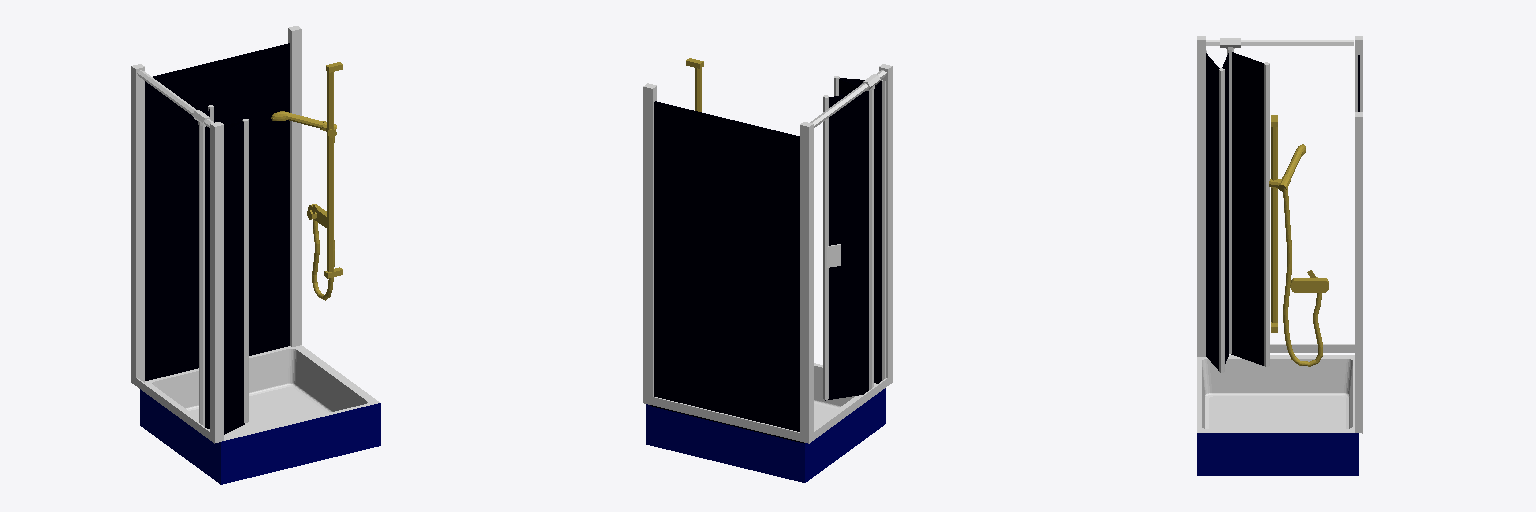
Rendered from 3dm-shower.obj.
The picture shows the model from 3 angles: view 1: azimuth 30°, elevation 25°; view 2: azimuth 150°, elevation 25°; view 3: azimuth 270°, elevation 25°; orthographic projection.
Parts seen in each view (by area): view 1: shower1_0; view 2: shower1_0; view 3: shower1_0.
Part boxes in pixels (left/top/right/bottom): shower1_0: left=131, top=26, right=380, bottom=484; shower1_0: left=643, top=58, right=892, bottom=482; shower1_0: left=1197, top=36, right=1362, bottom=475.
Size of the model in its own units: 38.26 by 79.12 by 33.26.